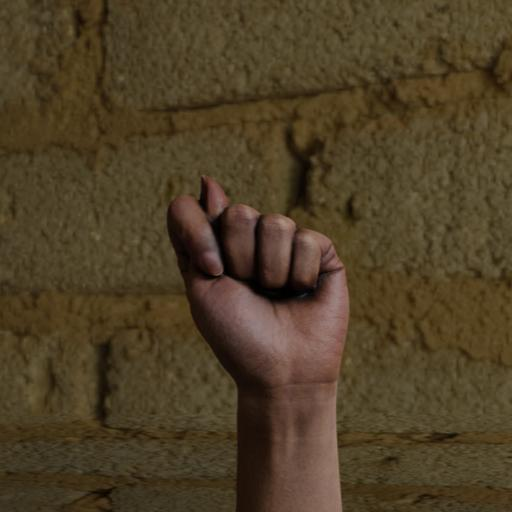T: (157, 166, 366, 436)
